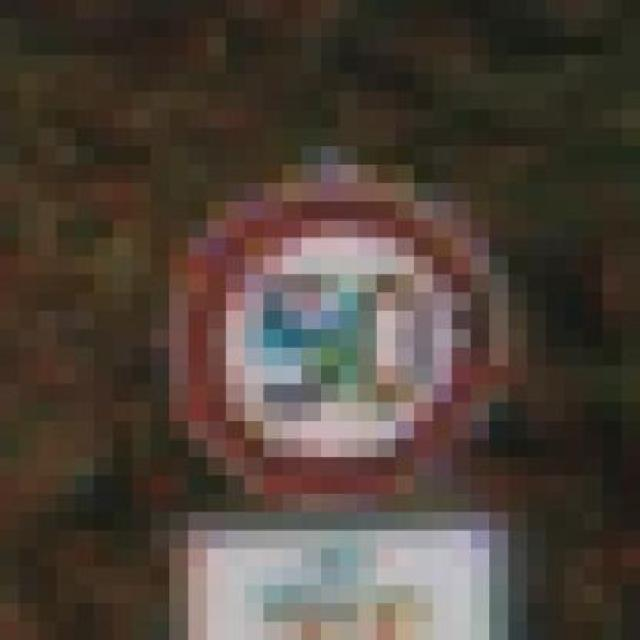forb_speed_over_50: (189, 187, 492, 501)
